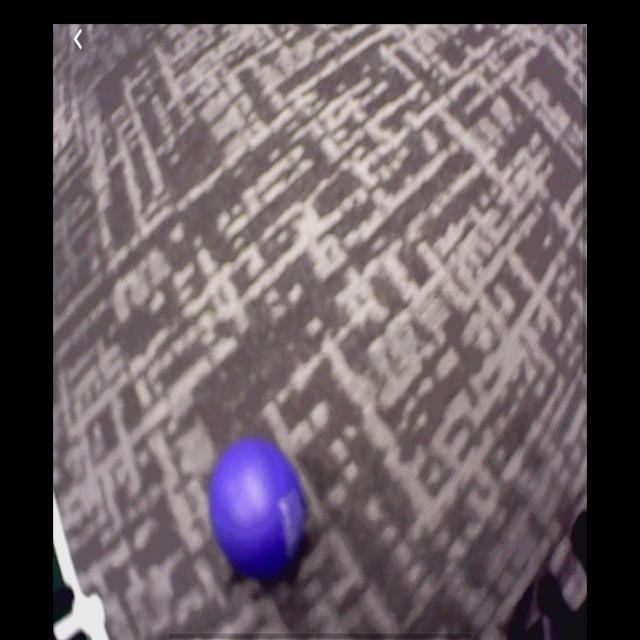ball: (215, 438, 308, 575)
